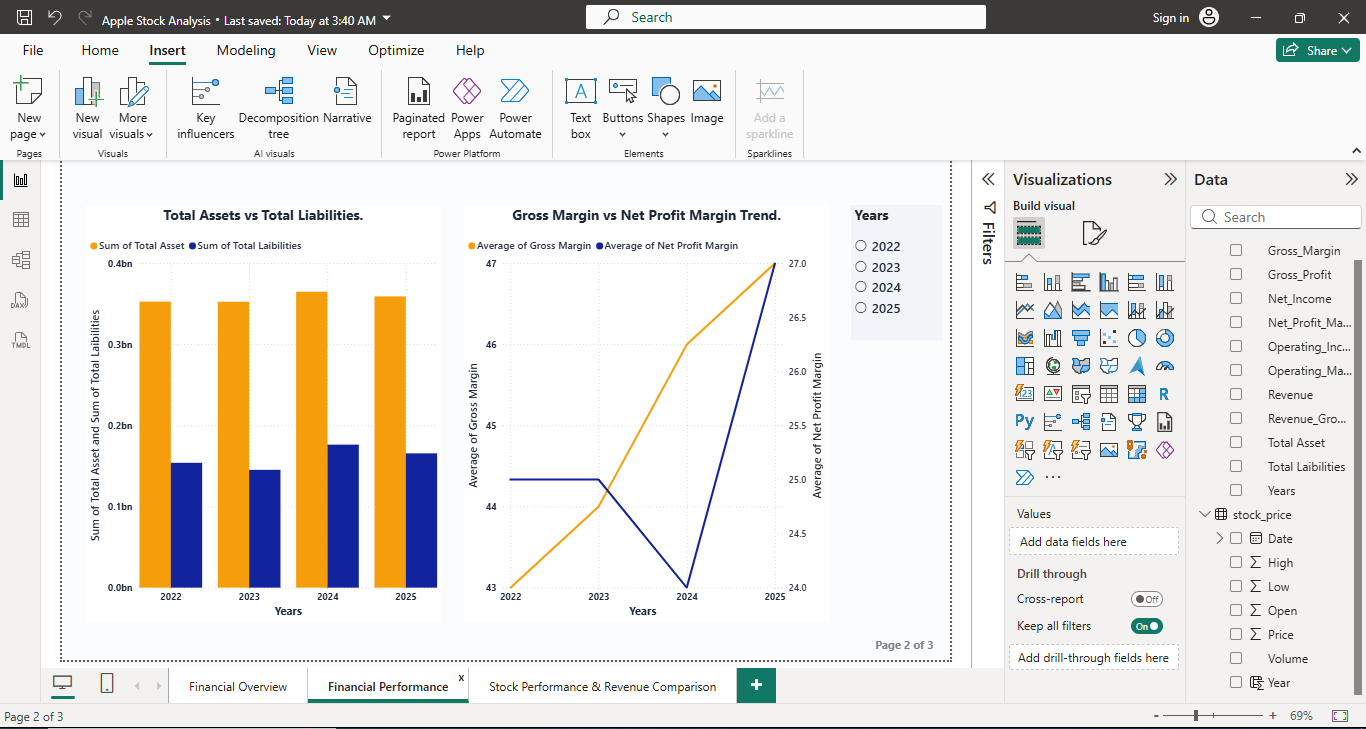

What the dashboard file says about the page in this screenshot:
{"tool":"powerbi","page":{"name":"Financial Performance","canvas":[1280,720],"ordinal":1},"visuals":[{"type":"clusteredColumnChart","title":"Total Assets vs Total Liabilities.","fields":{"Category":["finances.Years"],"Y":["Sum(finances.Total Asset)","Sum(finances.Total Laibilities)"]},"box":[35.3,65.5,510.7,599.7],"z":0},{"type":"lineChart","title":"Gross Margin vs Net Profit Margin Trend.","fields":{"Category":["finances.Years"],"Y":["Avg(finances.Gross_Margin)"],"Y2":["Avg(finances.Net_Profit_Margin)"]},"box":[579.5,65.5,525.8,599.7],"z":1000},{"type":"listSlicer","fields":{"Values":["finances.Years"]},"box":[1135.5,65.5,131,194.9],"z":2000},{"type":"textbox","box":[1166.4,682.6,100.8,37.4],"z":3000}]}

Visuals, with their boxes on the page's 1280x720 design canvas (x1, y1, x2, y2). These are canvas units, not pixel positions in the 1366x729 screenshot, which may show the page scaled, cropped or inside an application window:
"Total Assets vs Total Liabilities." clusteredColumnChart: [x1=35, y1=66, x2=546, y2=665]
"Gross Margin vs Net Profit Margin Trend." lineChart: [x1=580, y1=66, x2=1105, y2=665]
listSlicer - finances.Years: [x1=1136, y1=66, x2=1266, y2=260]
textbox: [x1=1166, y1=683, x2=1267, y2=720]
